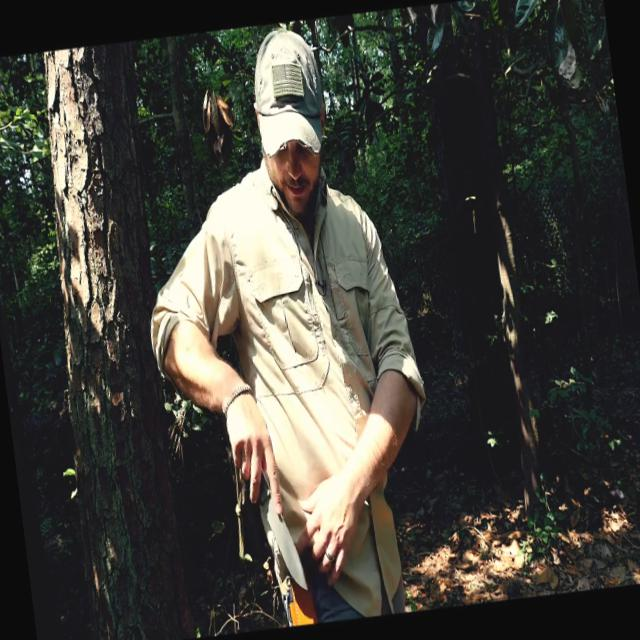knife: (238, 441, 310, 599)
